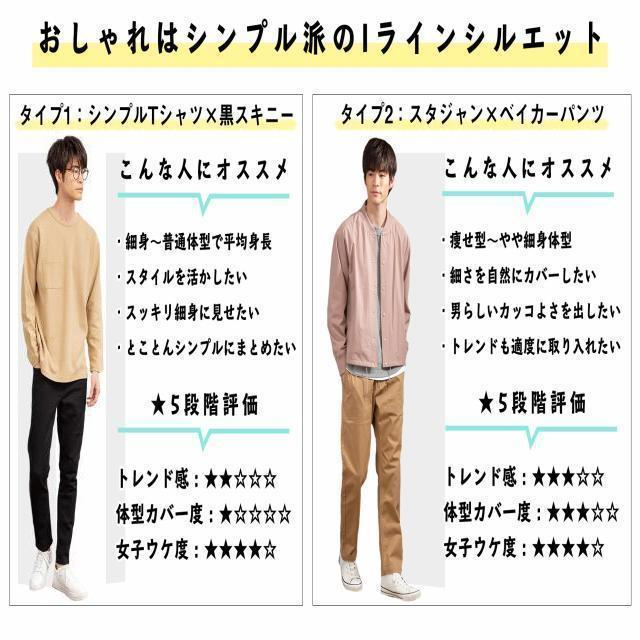direk: (328, 136, 428, 606), (18, 133, 106, 605)
